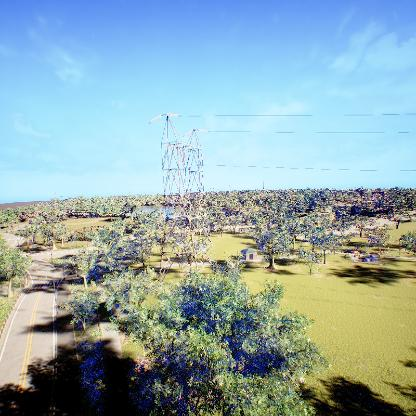tower: (145, 109, 211, 286)
